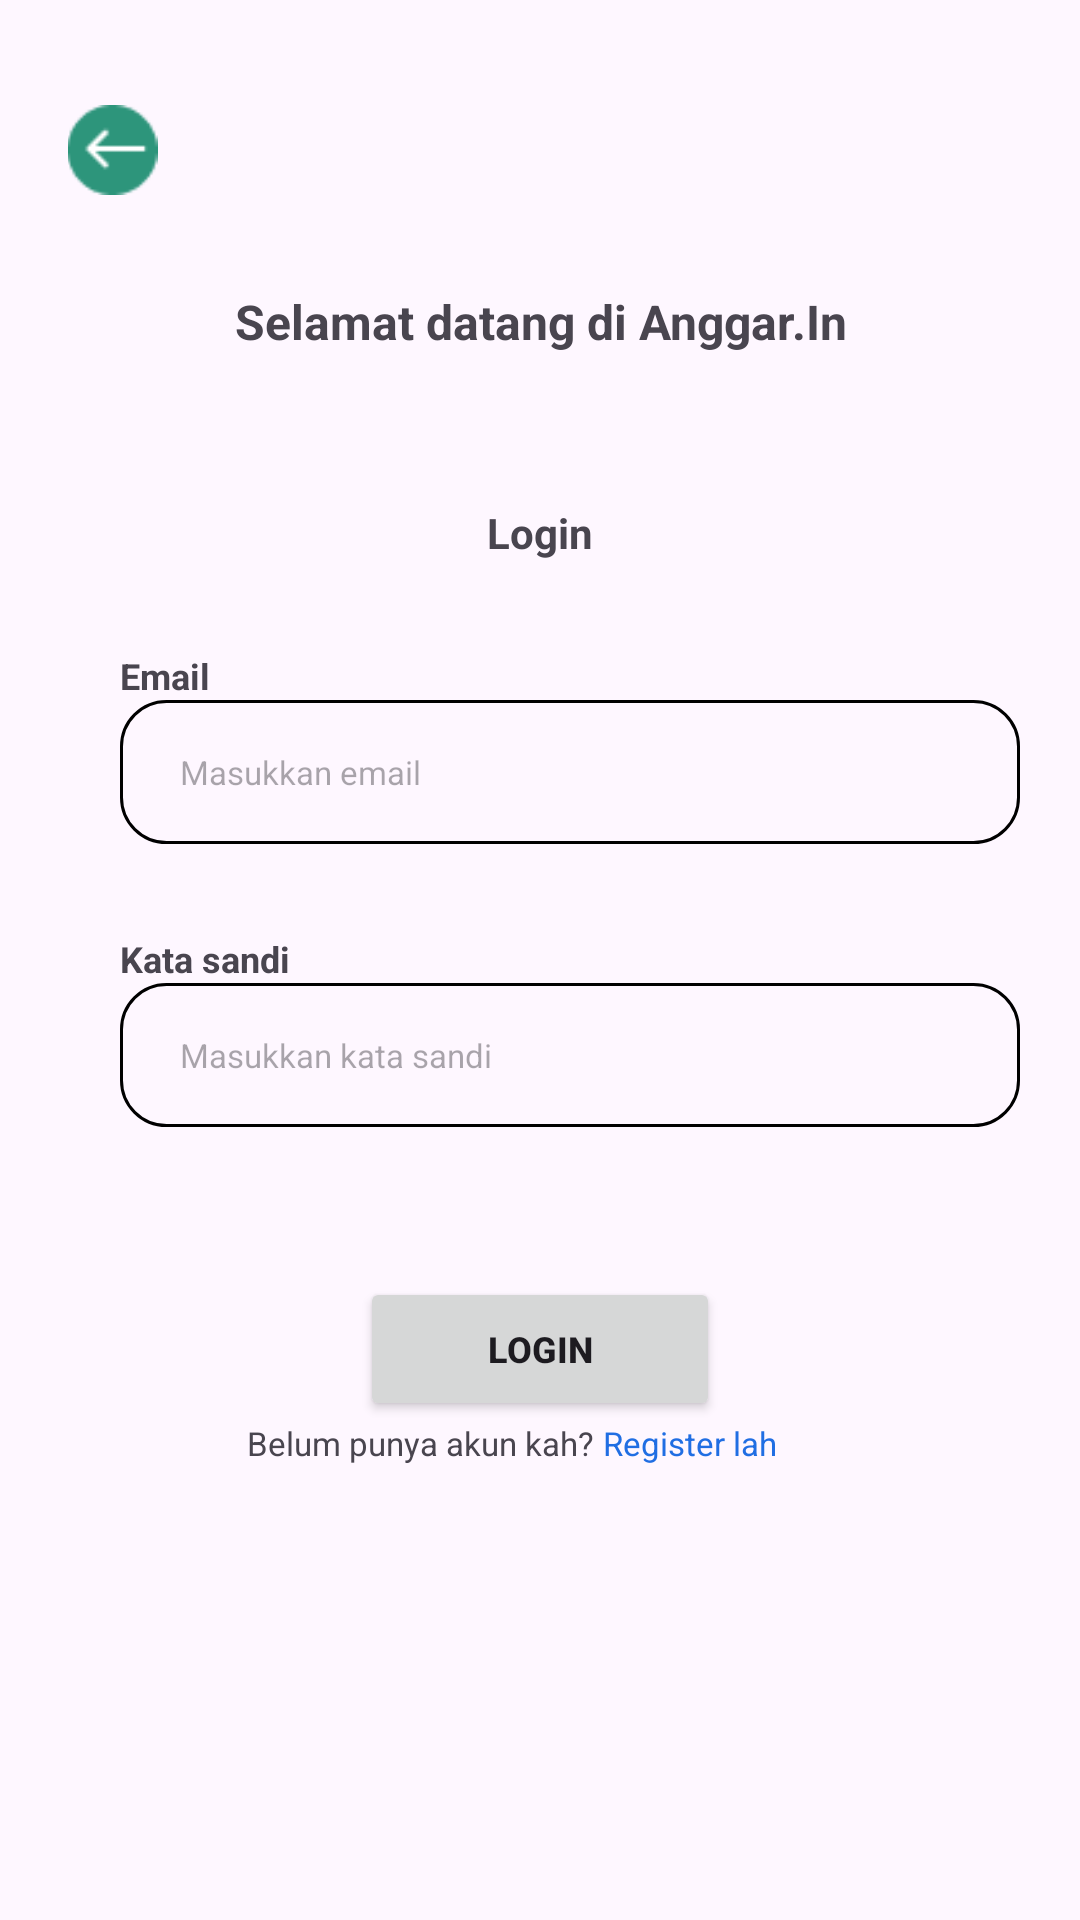

Icons on this 1080 x 1920 Android screen, each with the point to tap as (x=x, y=y):
back: (x=113, y=150)
